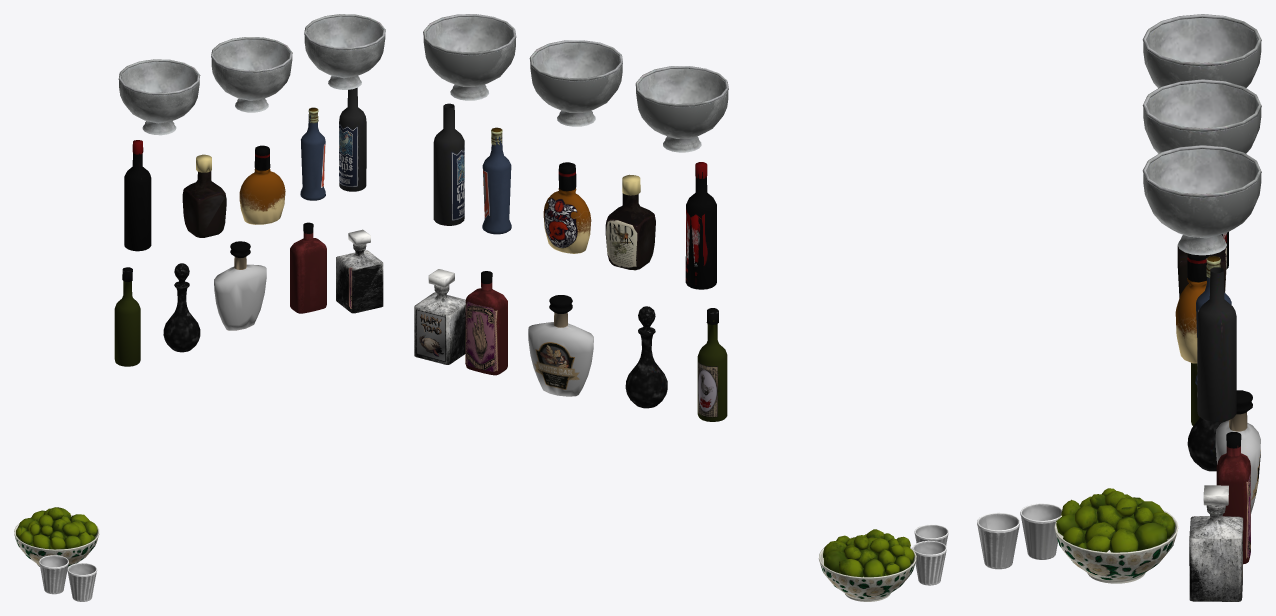
Rendered from SpiritsLow.fbx.
The picture shows the model from 3 angles, left to right: view 1: azimuth 30°, elevation 25°; view 2: azimuth 150°, elevation 25°; view 3: azimuth 270°, elevation 25°; orthographic projection. The views are drawn at different scales.
Visible parts, largest first — view 1: Group_001, GameObject, Cylinder_Cylinder_002, kitchen_accessories_018, kitchen_accessories_038; view 2: Group_001, GameObject, Cylinder_Cylinder_002, kitchen_accessories_018; view 3: Group_001, GameObject, Cylinder_Cylinder_002, kitchen_accessories_038, kitchen_accessories_018.
Part boxes in pixels (left/top/right/bottom): Group_001: left=114, top=14, right=385, bottom=366; GameObject: left=16, top=507, right=97, bottom=549; Cylinder_Cylinder_002: left=14, top=515, right=99, bottom=567; kitchen_accessories_018: left=39, top=555, right=68, bottom=594; kitchen_accessories_038: left=67, top=563, right=97, bottom=601; Group_001: left=414, top=14, right=728, bottom=421; GameObject: left=823, top=529, right=914, bottom=577; Cylinder_Cylinder_002: left=818, top=537, right=916, bottom=601; kitchen_accessories_018: left=912, top=540, right=946, bottom=585; Group_001: left=1142, top=14, right=1261, bottom=601; GameObject: left=1056, top=488, right=1175, bottom=552; Cylinder_Cylinder_002: left=1054, top=510, right=1178, bottom=583; kitchen_accessories_038: left=977, top=512, right=1019, bottom=569; kitchen_accessories_018: left=1020, top=503, right=1062, bottom=559.
Bounding box in the file's own units: 111 × 117 × 47.93.
Materials: 1 (1 with a texture image).
